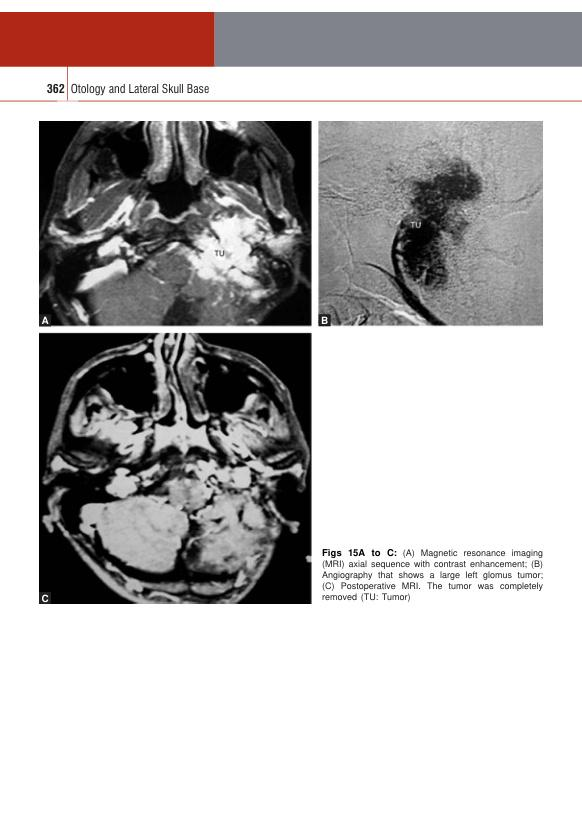caption: (321, 547, 544, 603), (320, 315, 330, 325), (41, 593, 50, 604), (41, 315, 50, 325)
header: (70, 82, 210, 97)
image: (38, 331, 312, 605), (38, 120, 312, 327), (317, 120, 544, 326)
